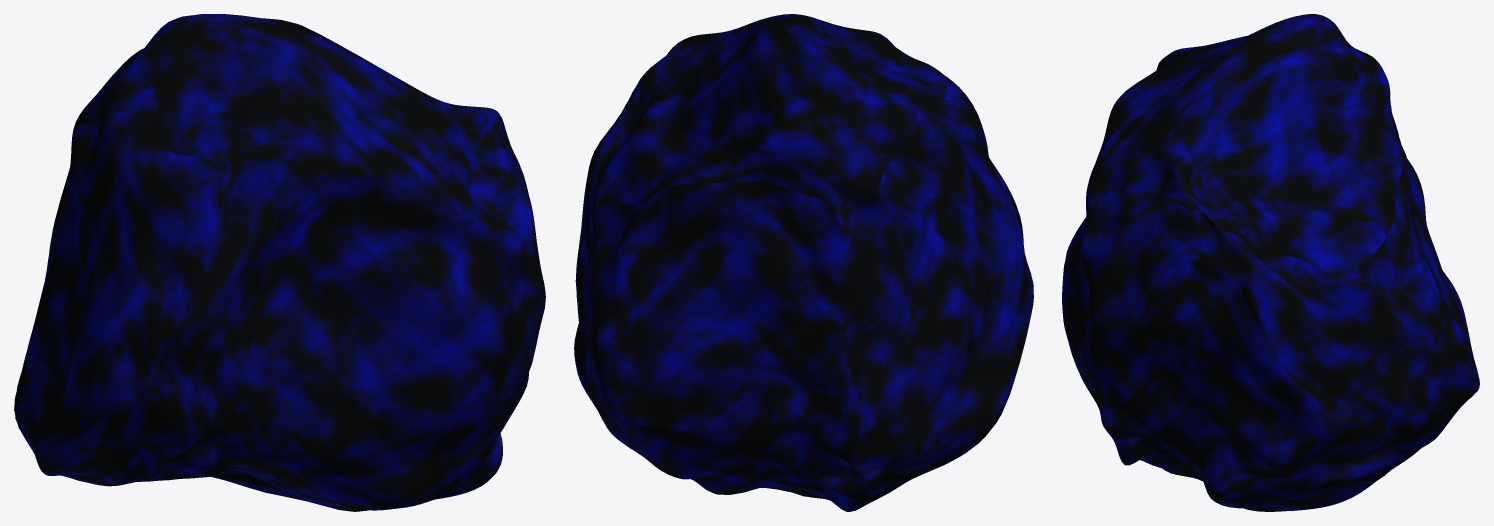
File: rock02.FBX
3 renders of one model, left to right at view 1: azimuth 30°, elevation 25°; view 2: azimuth 150°, elevation 25°; view 3: azimuth 270°, elevation 25°, orthographic. The views are drawn at different scales.
Parts seen in each view (by area): view 1: rock001; view 2: rock001; view 3: rock001.
Boxes of the visible parts, x1,y1,x2,y2 form: rock001: (14,14,545,511); rock001: (574,14,1033,511); rock001: (1062,14,1479,511).
Bounding box in the file's own units: 1038 × 1076 × 939.
